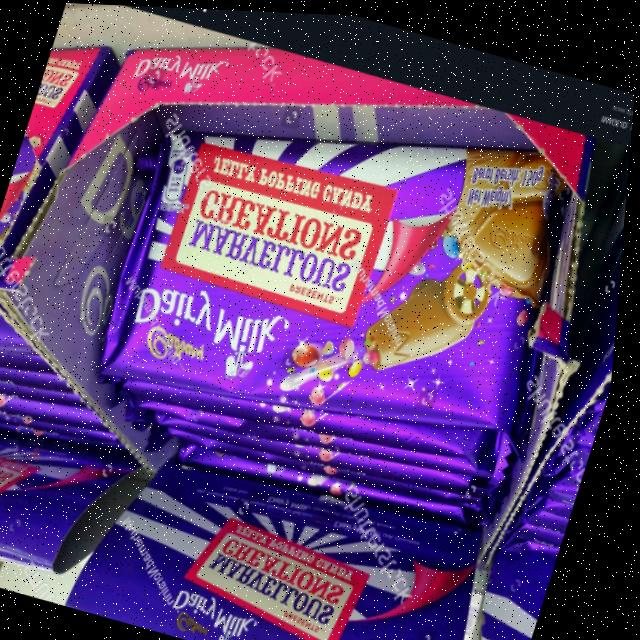cadbury: (82, 46, 612, 493)
